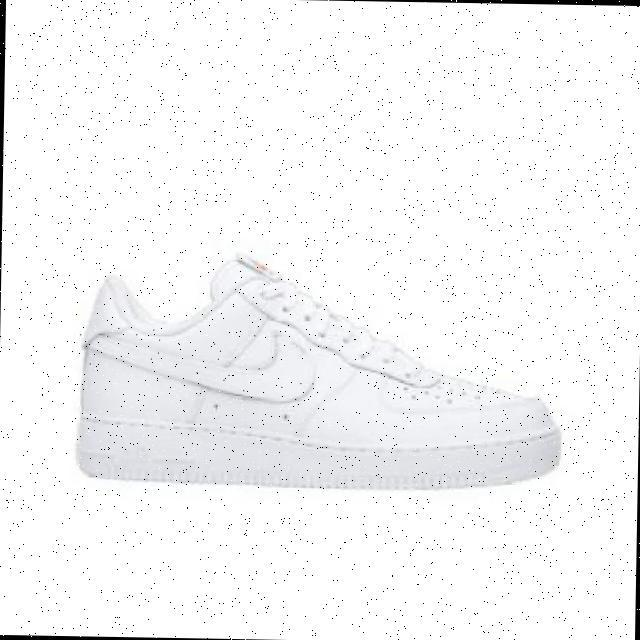Nike: (78, 325, 315, 402)
